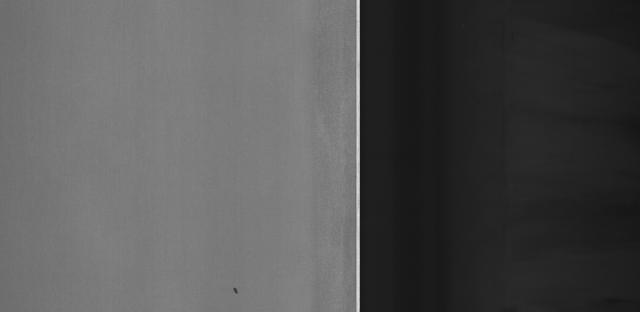inclusion: (227, 278, 246, 298)
